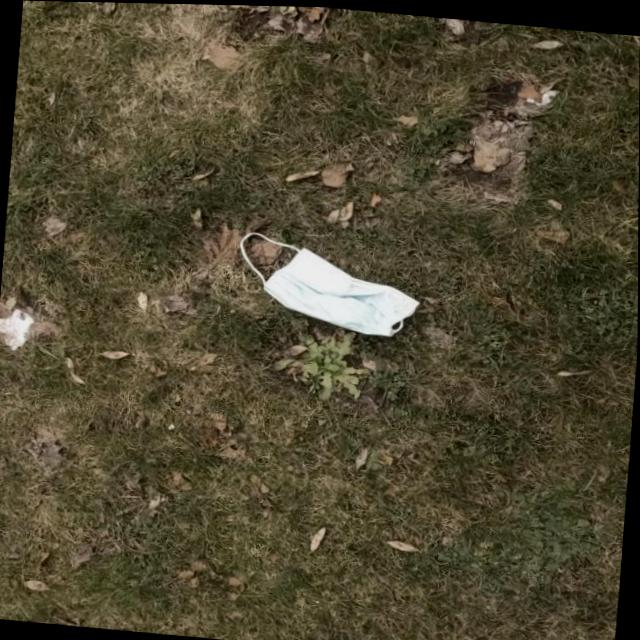Mask: (230, 227, 430, 341)
Paper: (0, 305, 35, 353)
